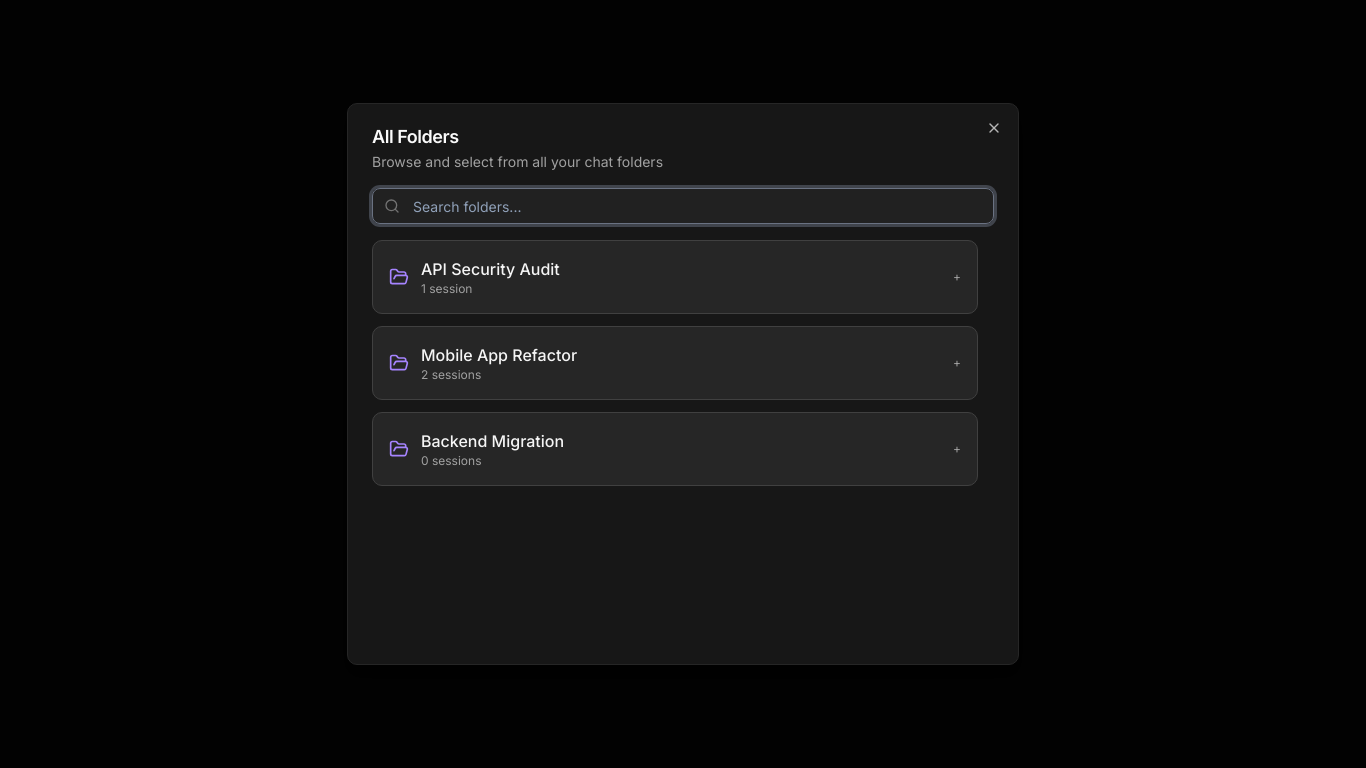
Test: ShowMoreFoldersDialog Component › Search Functionality › should filter folders by search query
Type "Mobile" into the field with placeholder "Search folders...". click: (683, 206)
box: top-left (372, 188), bottom-right (994, 224)
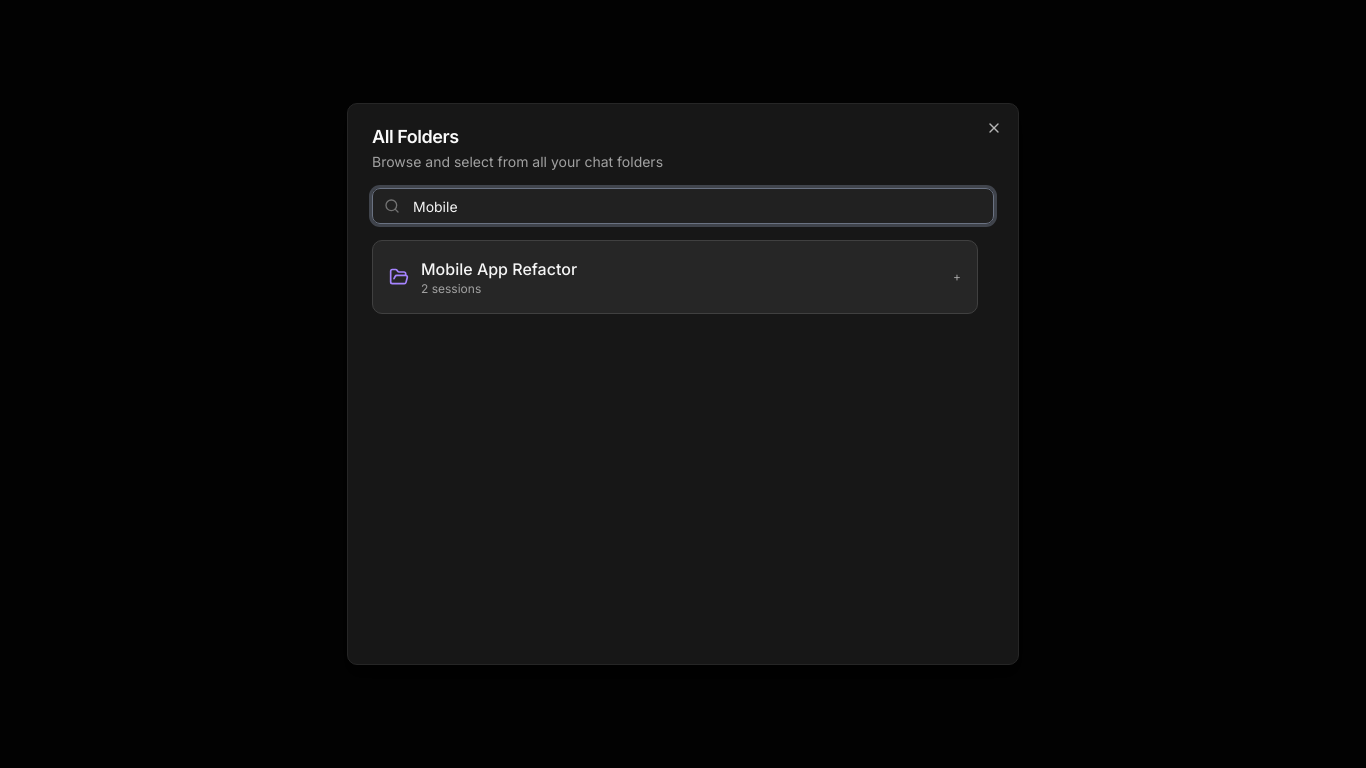
Expected: the heading "Mobile App Refactor" is shown, top-left (421, 257), bottom-right (577, 281)
Now the button "API Security Audit" is gone
